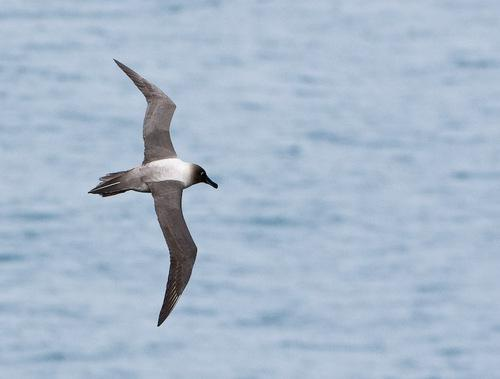003.Sooty_Albatross: (94, 59, 218, 329)
